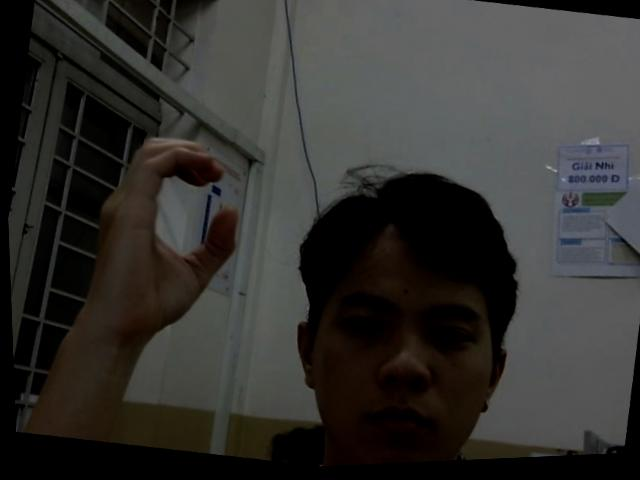C: (75, 125, 253, 349)
